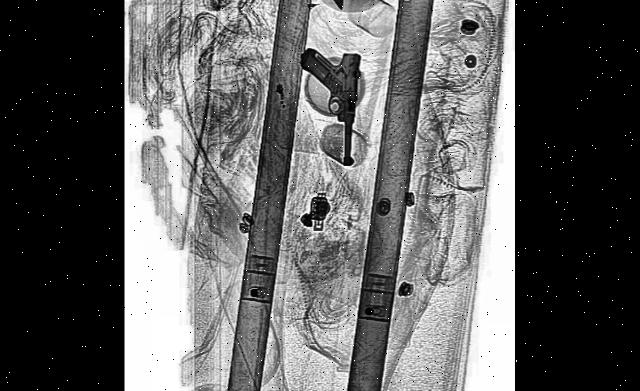Gun: (294, 38, 363, 167)
